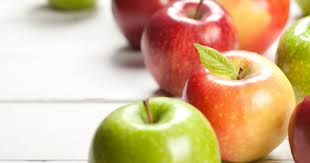apple: (189, 50, 297, 158), (140, 1, 237, 91), (89, 101, 221, 163)
